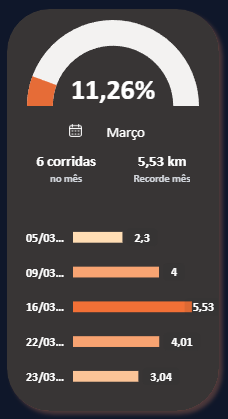

The page's visual inventory and layout, read from the dashboard file:
{"tool":"powerbi","page":{"name":"Tooltip distância","canvas":[230,420],"ordinal":2},"visuals":[{"type":"shape","box":[0,0,230,420],"z":0},{"type":"cardVisual","fields":{"Data":["Medidas.Tooltip qtd corridas","Medidas.Tooltip maior corrida"]},"box":[7,131,218,74],"z":1000},{"type":"gauge","fields":{"Y":["Medidas.% Participacao mensal"],"MaxValue":["Medidas.Gauge Max"],"MinValue":["Medidas.Gauge Min"]},"box":[7,15,216,96],"z":2000},{"type":"cardVisual","fields":{"Data":["Medidas.Mês selecionado"]},"box":[40,104,149,53],"z":3000},{"type":"clusteredBarChart","title":"Distância por mês","fields":{"Y":["Medidas.Distância total km"],"Category":["fCorridas.Data"]},"box":[8.3,205,216.7,196.7],"z":4000}]}

Visuals, with their boxes in screenshot pixels (x1, y1, x2, y2), scaled from the page's 230x420 canvas onto the 228x419 screenshot:
shape: {"x1": 0, "y1": 0, "x2": 227, "y2": 418}
cardVisual - Medidas.Tooltip qtd corridas x Medidas.Tooltip maior corrida: {"x1": 7, "y1": 131, "x2": 223, "y2": 205}
gauge - Medidas.% Participacao mensal x Medidas.Gauge Max: {"x1": 7, "y1": 15, "x2": 221, "y2": 111}
cardVisual - Medidas.Mês selecionado: {"x1": 40, "y1": 104, "x2": 187, "y2": 157}
"Distância por mês" clusteredBarChart: {"x1": 8, "y1": 205, "x2": 223, "y2": 401}
